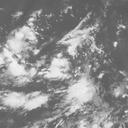cyclone: (29, 41, 101, 106)
